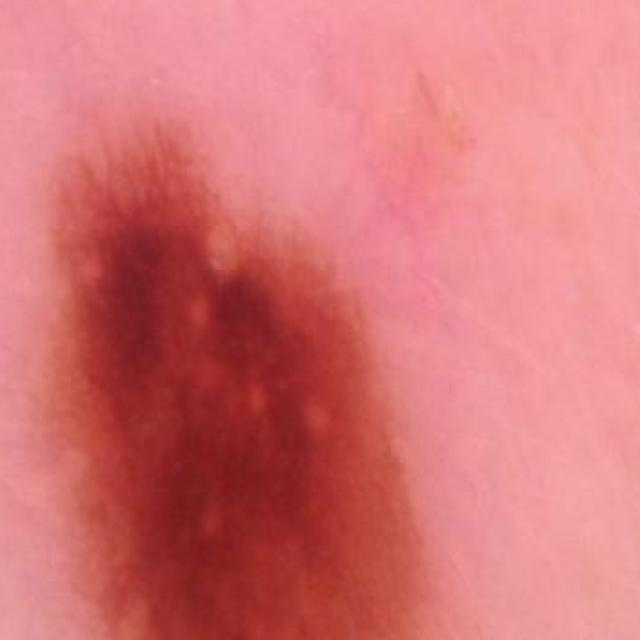NV: (35, 129, 452, 640)
